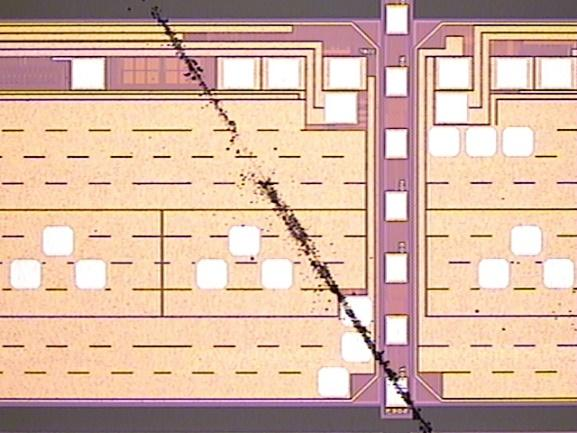SCRATCH: (138, 1, 442, 433)
